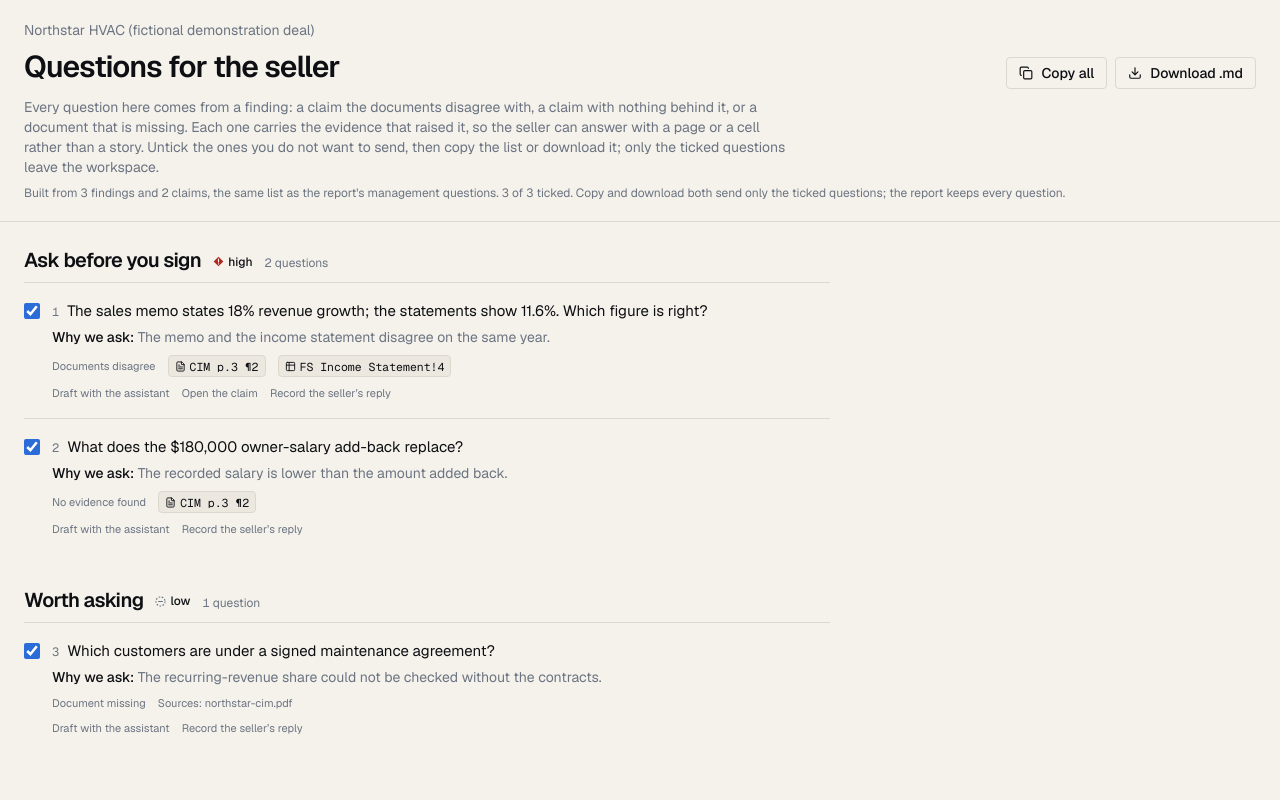
Test case: Questions for the seller › opens the document viewer from an evidence chip
Click the button "FS Income Statement!4" at (364, 366), box 278,355 -> 451,377
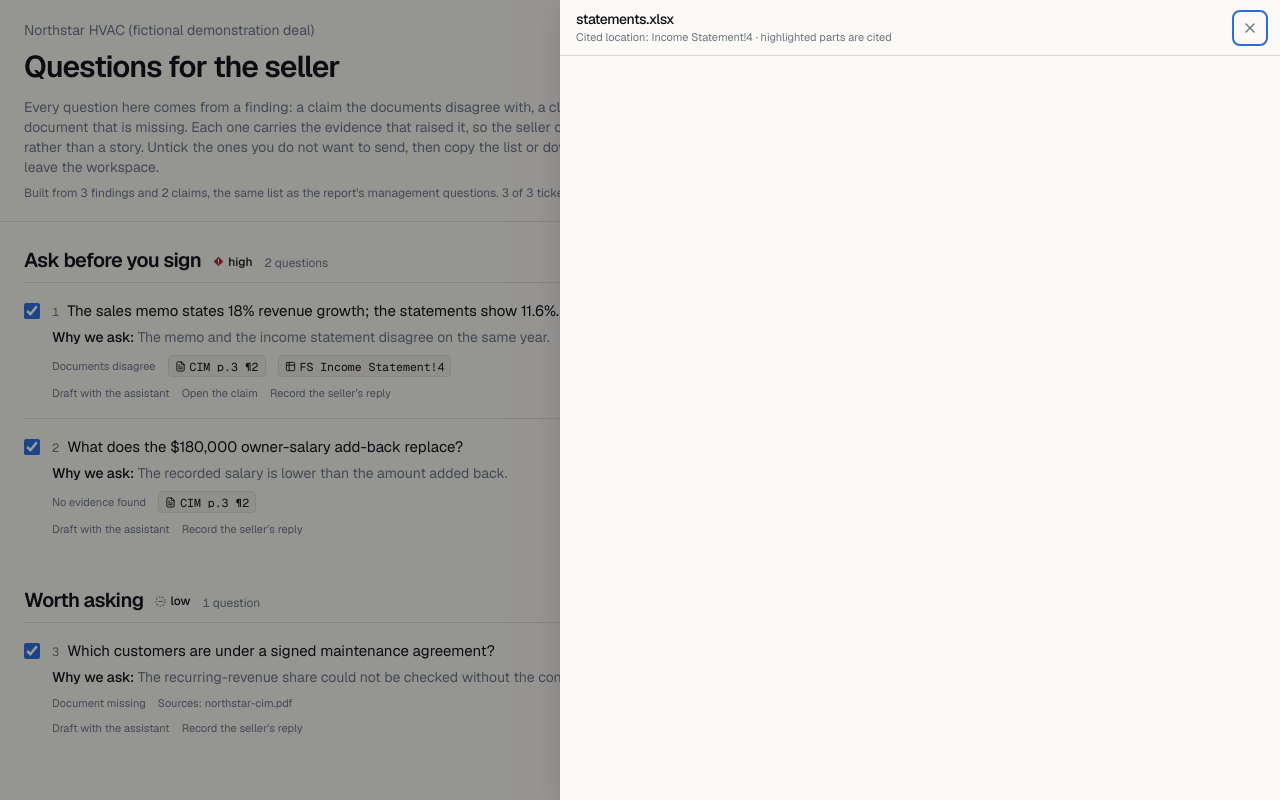
Expected: the heading "statements.xlsx" is shown, 576,10 -> 674,28
Expected: the text "Cited location: Income Statement!4" is shown, 576,30 -> 753,44
